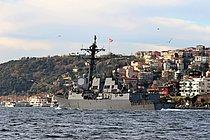MIL_Ship: (54, 71, 166, 111)
